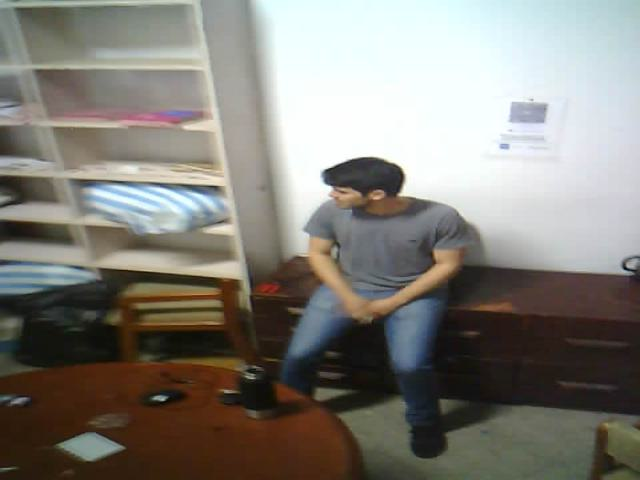person: (240, 135, 504, 479)
